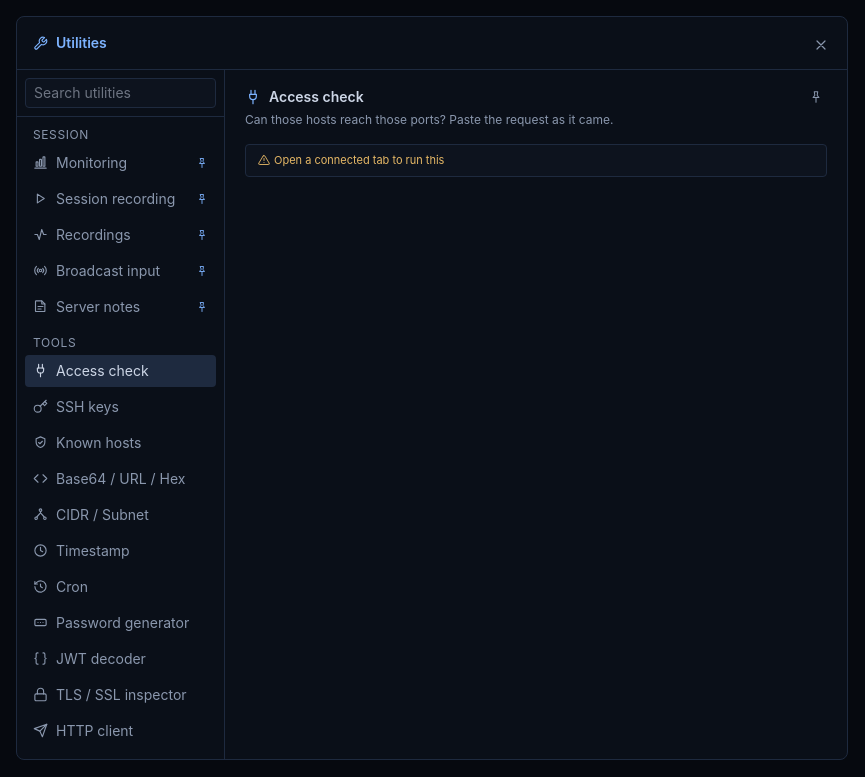
Test case: UtilitiesPanel — the session actions › an action that cannot run says why, next to a disabled button
This screenshot has width=865, height=777.
Click the button with test id "utility-nav-session:monitoring" at (120, 163), box [25, 147, 216, 179]
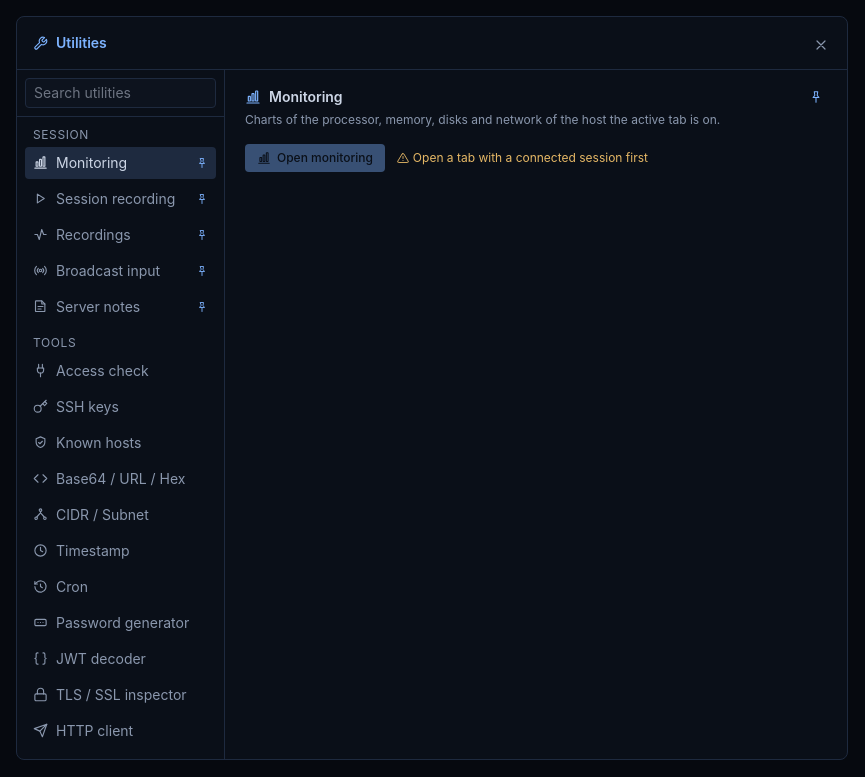
Expected: the button with test id "session-action-run" is disabled, [245, 144, 385, 172]
Expected: the element with test id "session-action-reason" reads "Open a tab with a connected session first", [413, 150, 648, 165]
Click the button "Broadcast input" at (120, 271), box [25, 255, 216, 287]
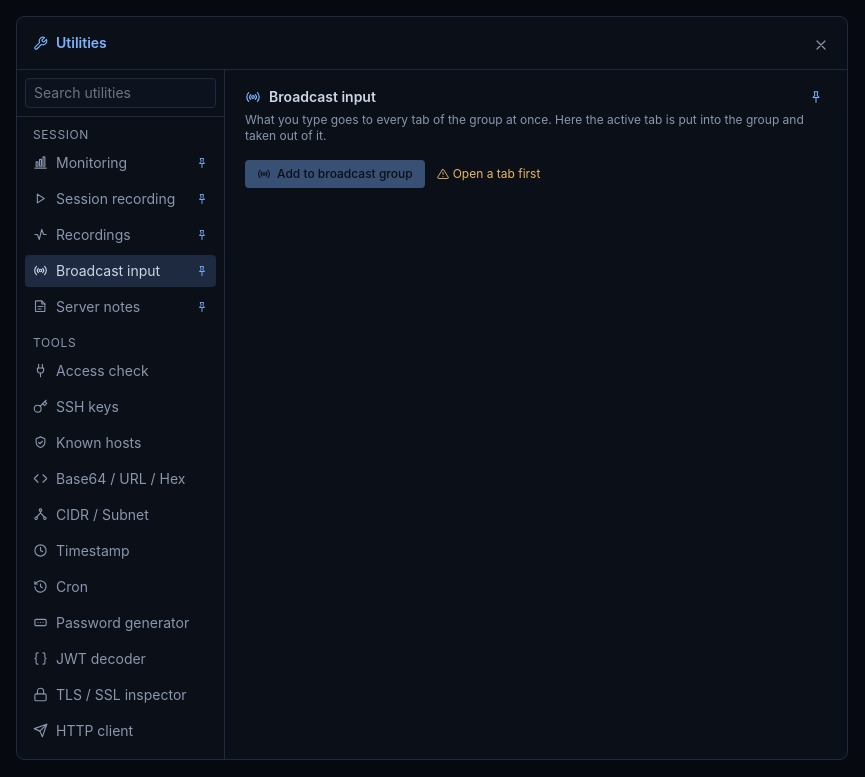
Expected: the element with test id "session-action-reason" reads "Open a tab first", [453, 166, 540, 181]
Click the button with test id "utility-nav-session:notes" at (120, 307), box [25, 291, 216, 323]
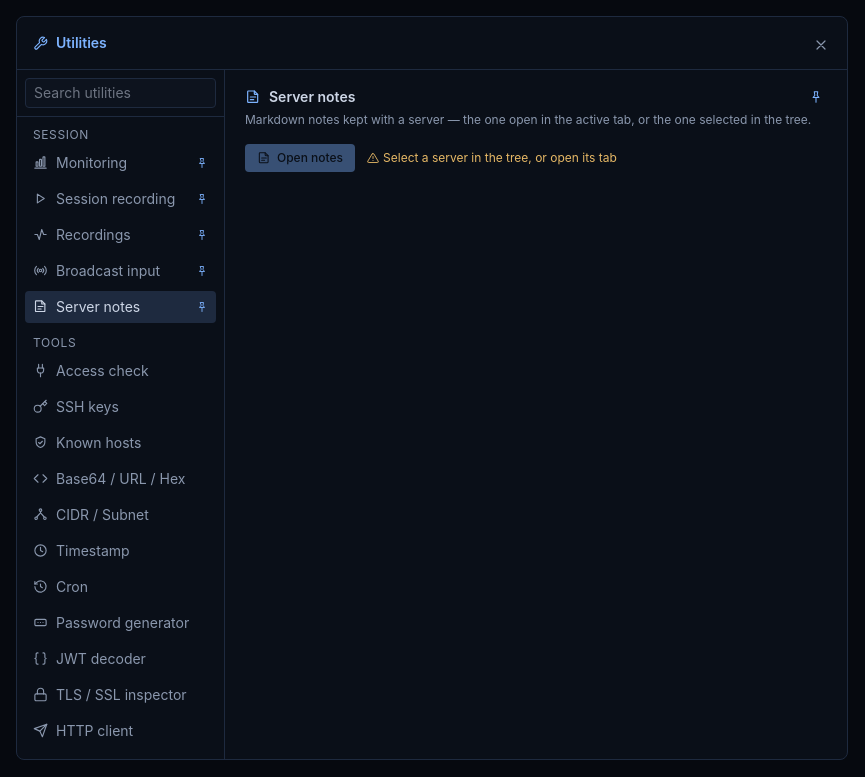
Expected: the element with test id "session-action-reason" reads "Select a server in the tree, or open its tab", [383, 150, 617, 165]
The library needs nothing.
Click the button "Recordings" at (120, 235), box [25, 219, 216, 251]
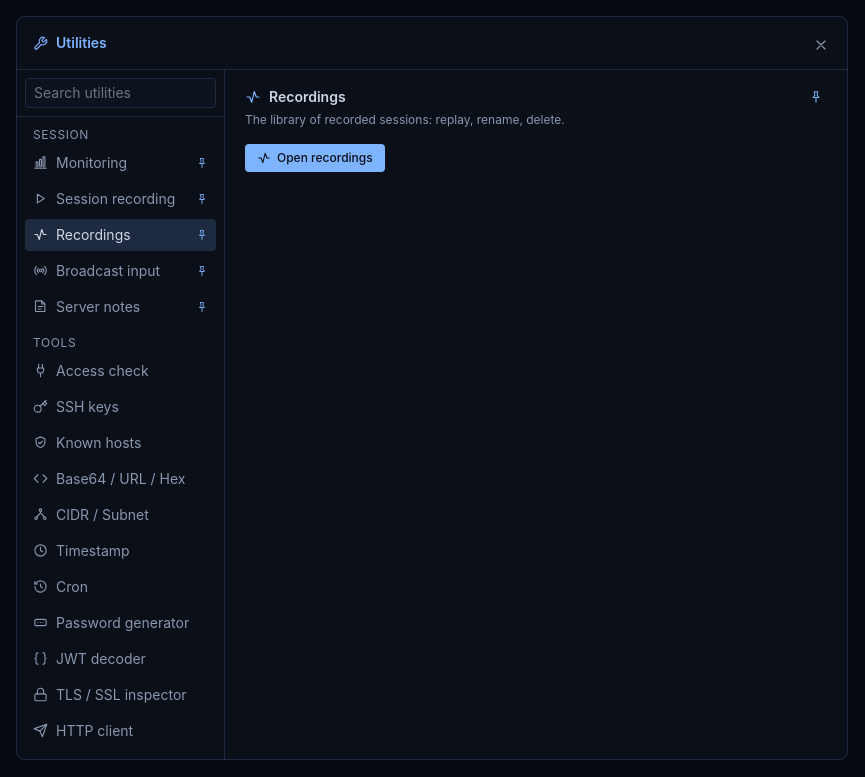
Expected: the button with test id "session-action-run" is enabled, [245, 144, 385, 172]
Expected: the element with test id "session-action-reason" is gone
